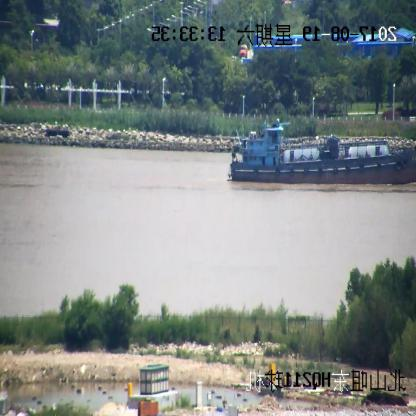Bulk Carrier: (228, 121, 416, 182)
